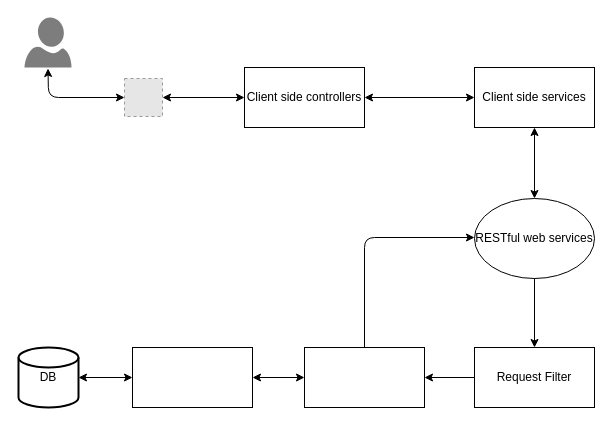
Some shapes in this 612 by 425 pixel diagram are drawn without their labels. Grey dashed boxes stand in for pictures. The shapes that lost their labels are listed below. From the top down, each one's centre as x and y in pixels, then its label:
At point (192, 377): "Services and other Utils".
At point (364, 377): "Controllers".
